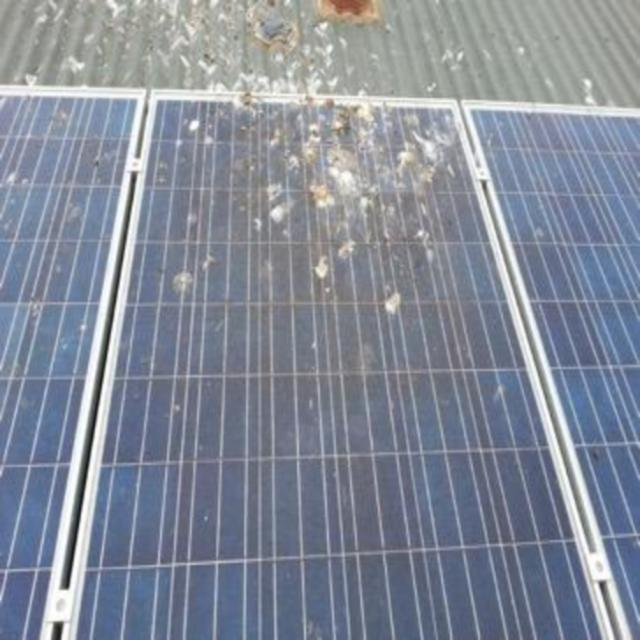soiled: (4, 83, 592, 640)
